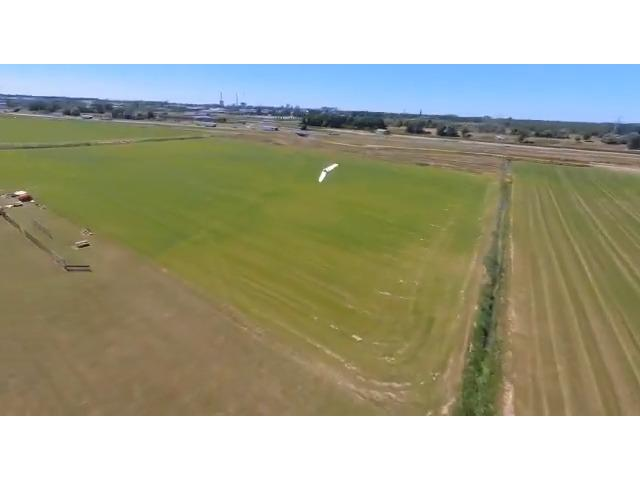Anti-Drone: (308, 154, 352, 190)
